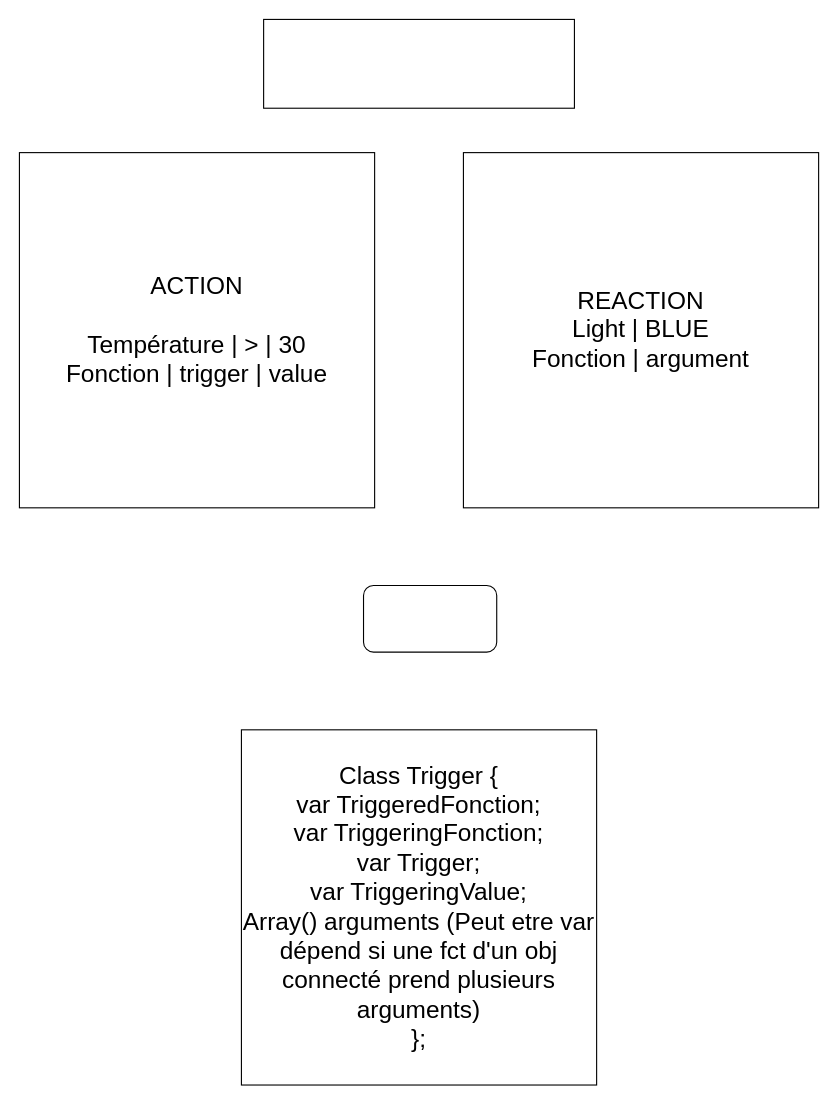
This 838x1104 diagram has some shape labels left out. Each missing label, with the centre of its shape:
"API" belongs at (x=429, y=618).
"SITE WEB" belongs at (x=418, y=63).
